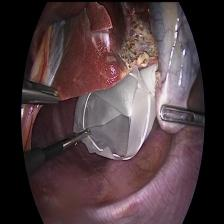Grasper: (160, 100, 204, 133), (21, 75, 61, 106), (61, 122, 91, 152)
Specimen Bag: (72, 61, 156, 176)
